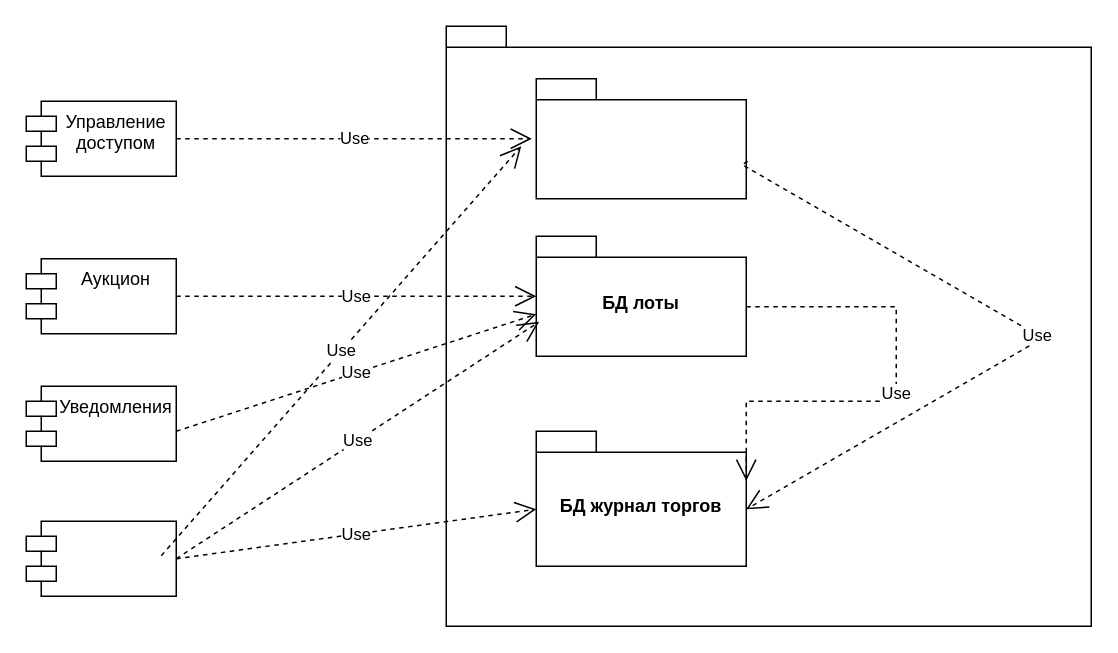
Image size: 1118x653. Some labels were removed from this diagram. Here are the shapes that lost their labels. From the top down, the centre of each, then its label:
At pixel 640 138: "БД участники".
At pixel 100 558: "Введение журнала".
